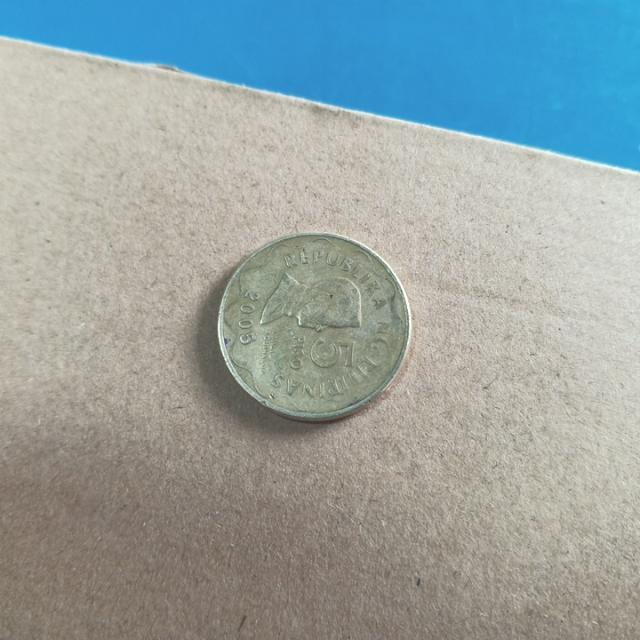5 peso-old: (202, 231, 418, 428)
